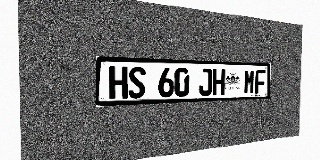0: (174, 68, 189, 97)
6: (158, 67, 174, 97)
F: (255, 69, 266, 94)
H: (109, 66, 128, 99), (212, 69, 225, 95)
J: (199, 68, 212, 96)
M: (244, 69, 255, 94)
S: (128, 67, 146, 98)
